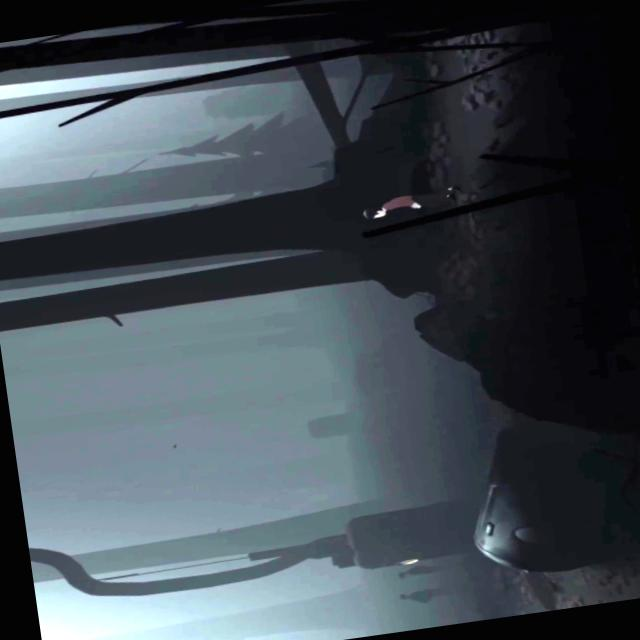boy: (360, 183, 462, 220)
human: (400, 584, 454, 606), (397, 560, 454, 578)
